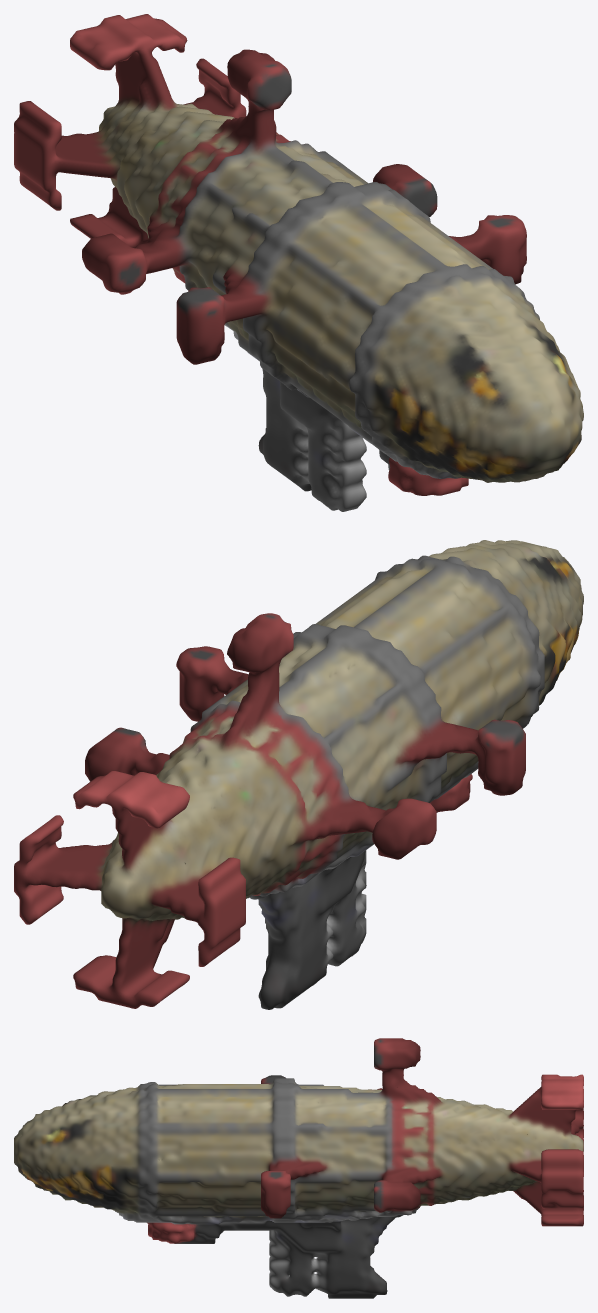
File: kirov_airship.glb
The picture shows the model from 3 angles, top to bottom: view 1: azimuth 30°, elevation 25°; view 2: azimuth 150°, elevation 25°; view 3: azimuth 270°, elevation 25°; orthographic projection. The views are drawn at different scales.
Visible parts, largest first — view 1: kirov_airship; view 2: kirov_airship; view 3: kirov_airship.
Part boxes in pixels (x1,y1,x2,y2): kirov_airship: (14,14,583,511); kirov_airship: (14,540,583,1009); kirov_airship: (14,1038,583,1298).
Size of the model in its own units: 4.99 by 5.63 by 11.32.
